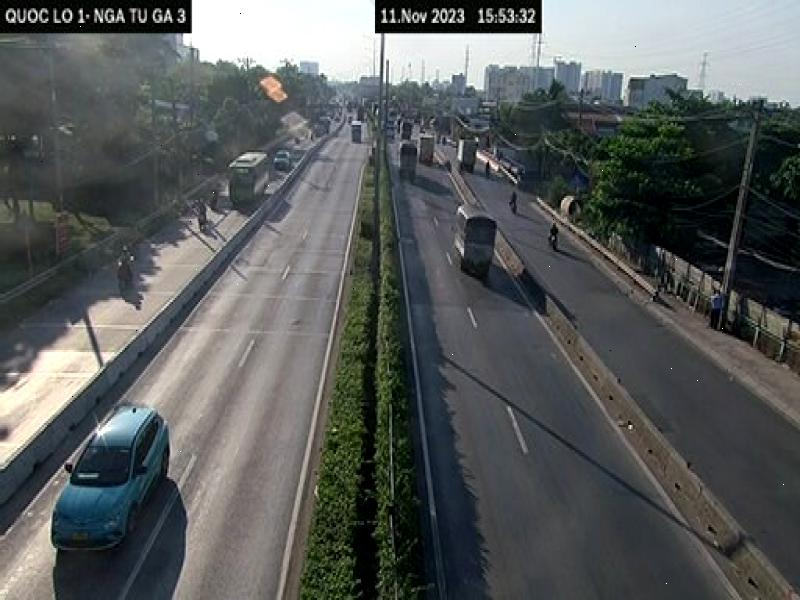bus: (227, 147, 270, 211)
truck: (456, 197, 497, 279)
